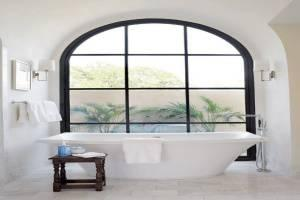window: (58, 18, 256, 160)
